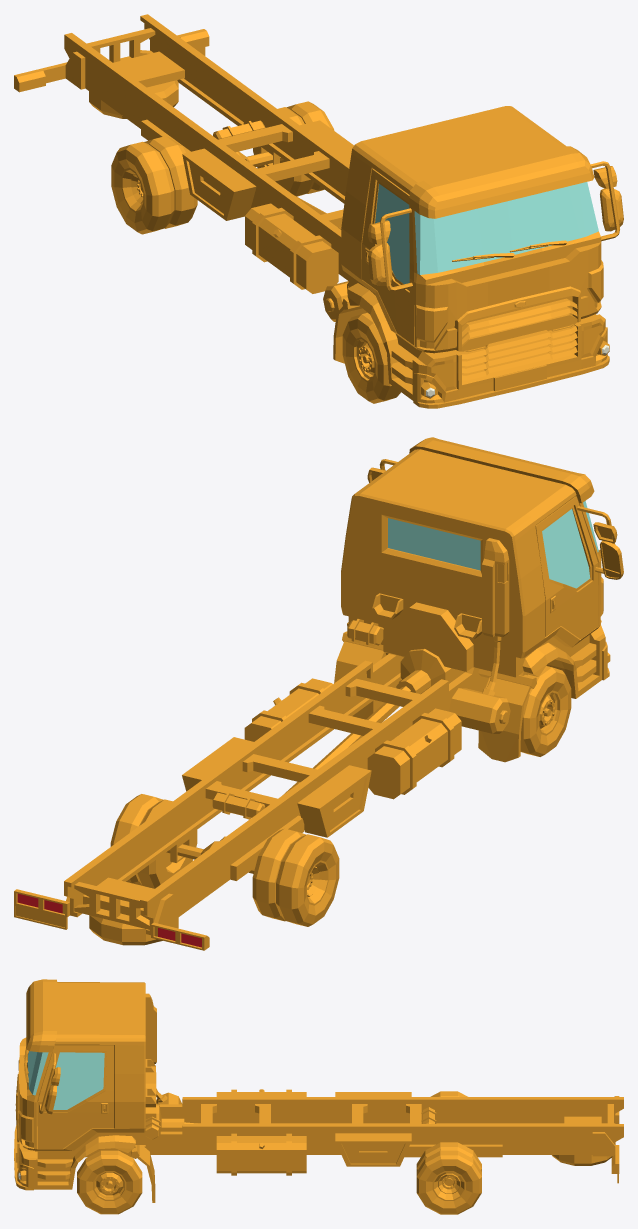
File: SM_Car_Truck_Modern.fbx
The picture shows the model from 3 angles, top to bottom: view 1: azimuth 30°, elevation 25°; view 2: azimuth 150°, elevation 25°; view 3: azimuth 270°, elevation 25°; orthographic projection. The views are drawn at different scales.
Parts seen in each view (by area): view 1: truck-modern-base, truck-modern-door-right, truck-modern-wheel-rba, truck-modern-wheel-rfr, truck-modern-wheel-lba, truck-modern-door-left; view 2: truck-modern-base, truck-modern-door-right, truck-modern-wheel-rba, truck-modern-wheel-rfr, truck-modern-wheel-lba; view 3: truck-modern-base, truck-modern-door-left, truck-modern-wheel-lba, truck-modern-wheel-lfr.
Boxes of the visible parts, x1=… form: truck-modern-base: x1=14, y1=14, x2=609, y2=408; truck-modern-door-right: x1=362, y1=169, x2=414, y2=345; truck-modern-wheel-rba: x1=111, y1=136, x2=197, y2=234; truck-modern-wheel-rfr: x1=342, y1=312, x2=400, y2=403; truck-modern-wheel-lba: x1=253, y1=101, x2=334, y2=196; truck-modern-door-left: x1=590, y1=161, x2=623, y2=241; truck-modern-base: x1=14, y1=437, x2=610, y2=950; truck-modern-door-right: x1=535, y1=496, x2=623, y2=638; truck-modern-wheel-rba: x1=252, y1=828, x2=339, y2=926; truck-modern-wheel-rfr: x1=520, y1=666, x2=571, y2=756; truck-modern-wheel-lba: x1=110, y1=794, x2=197, y2=888; truck-modern-base: x1=14, y1=979, x2=623, y2=1202; truck-modern-door-left: x1=38, y1=1045, x2=113, y2=1148; truck-modern-wheel-lba: x1=416, y1=1142, x2=481, y2=1214; truck-modern-wheel-lfr: x1=77, y1=1150, x2=142, y2=1214.
Size of the model in its own units: 3.28 by 3 by 9.41.
